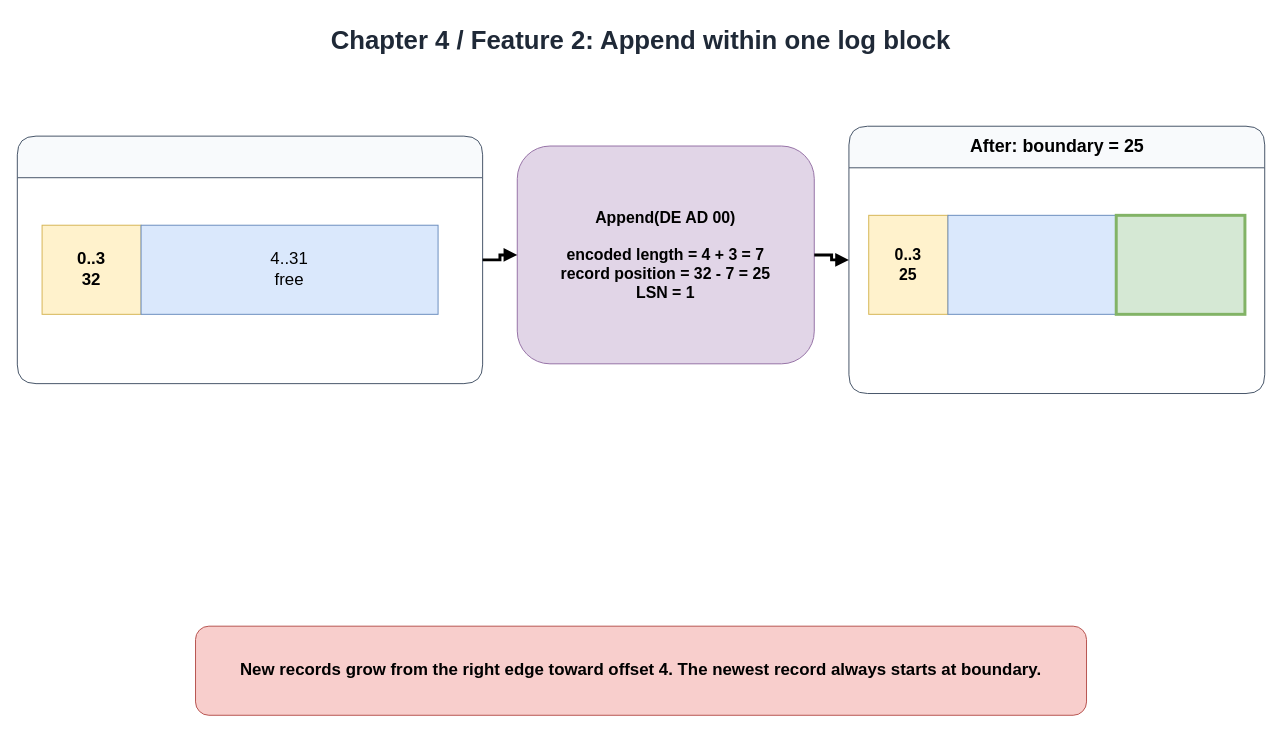
Image size: 1282x733. Some labels were removed from this diagram. The shapes that lost their labels are listed below. From the top down, each one's box as (x1, y1, x2, y2) in pixels, then its label:
(16, 135, 483, 384): Before: boundary = 32
(947, 214, 1116, 314): 4..24 free
(1114, 213, 1246, 315): 25..31 length 3 + payload 00 00 00 03 DE AD 00
